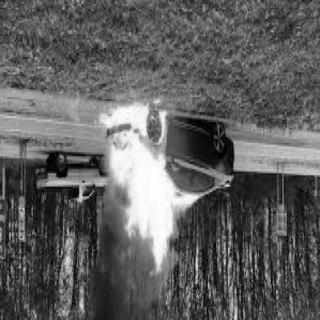Smoke: (137, 272, 164, 306)
